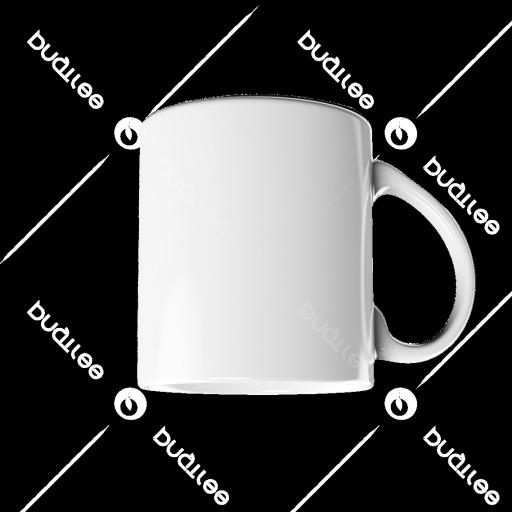cup: (138, 97, 474, 394)
